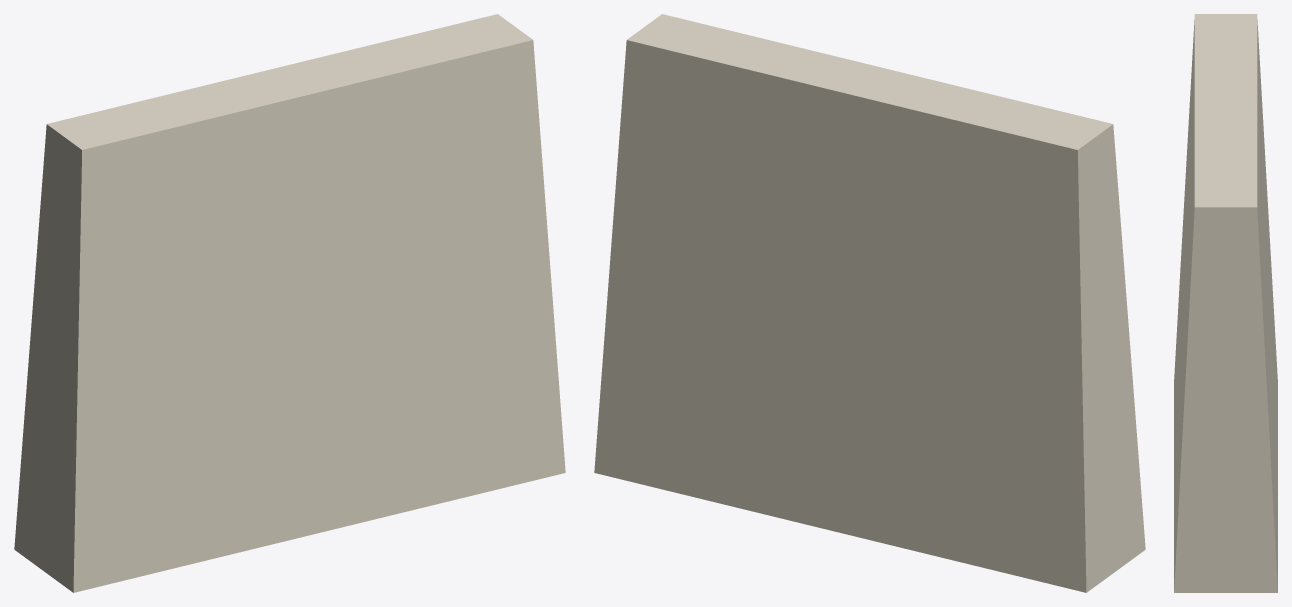
The model's file is Salon_Dem_TuaDon.glb.
The picture shows the model from 3 angles, left to right: view 1: azimuth 30°, elevation 25°; view 2: azimuth 150°, elevation 25°; view 3: azimuth 270°, elevation 25°; orthographic projection. The views are drawn at different scales.
Parts seen in each view (by area): view 1: geometry_0; view 2: geometry_0; view 3: geometry_0.
Part boxes in pixels (bbox=[...]): geometry_0: bbox=[14, 14, 565, 592]; geometry_0: bbox=[594, 14, 1145, 592]; geometry_0: bbox=[1174, 14, 1277, 592].
Size of the model in its own units: 0.48 by 0.4 by 0.1.
Materials: 1 (1 with a texture image).
